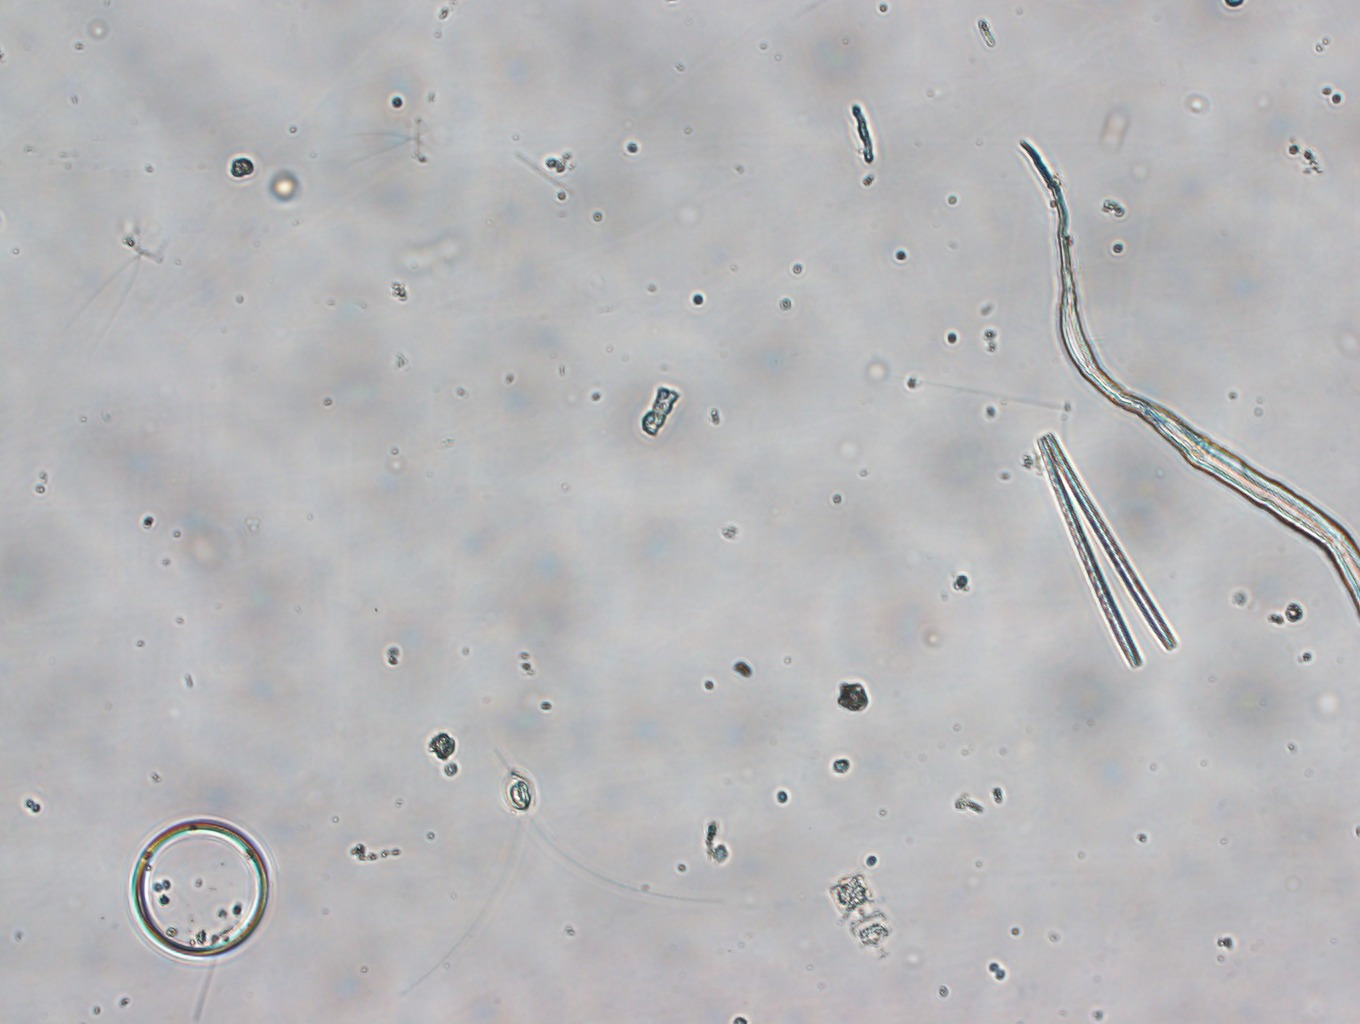coscinodiscus: (124, 815, 275, 971)
thalassionema frauenfeldii: (1018, 432, 1194, 677)
